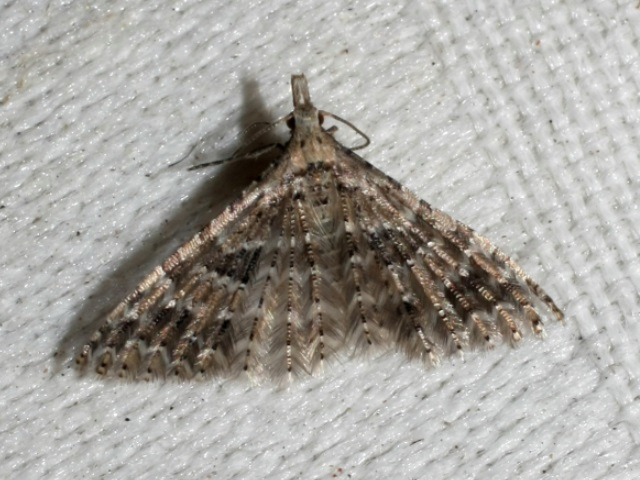Alucitidae: (54, 69, 568, 401)
moth: (52, 67, 566, 399)
